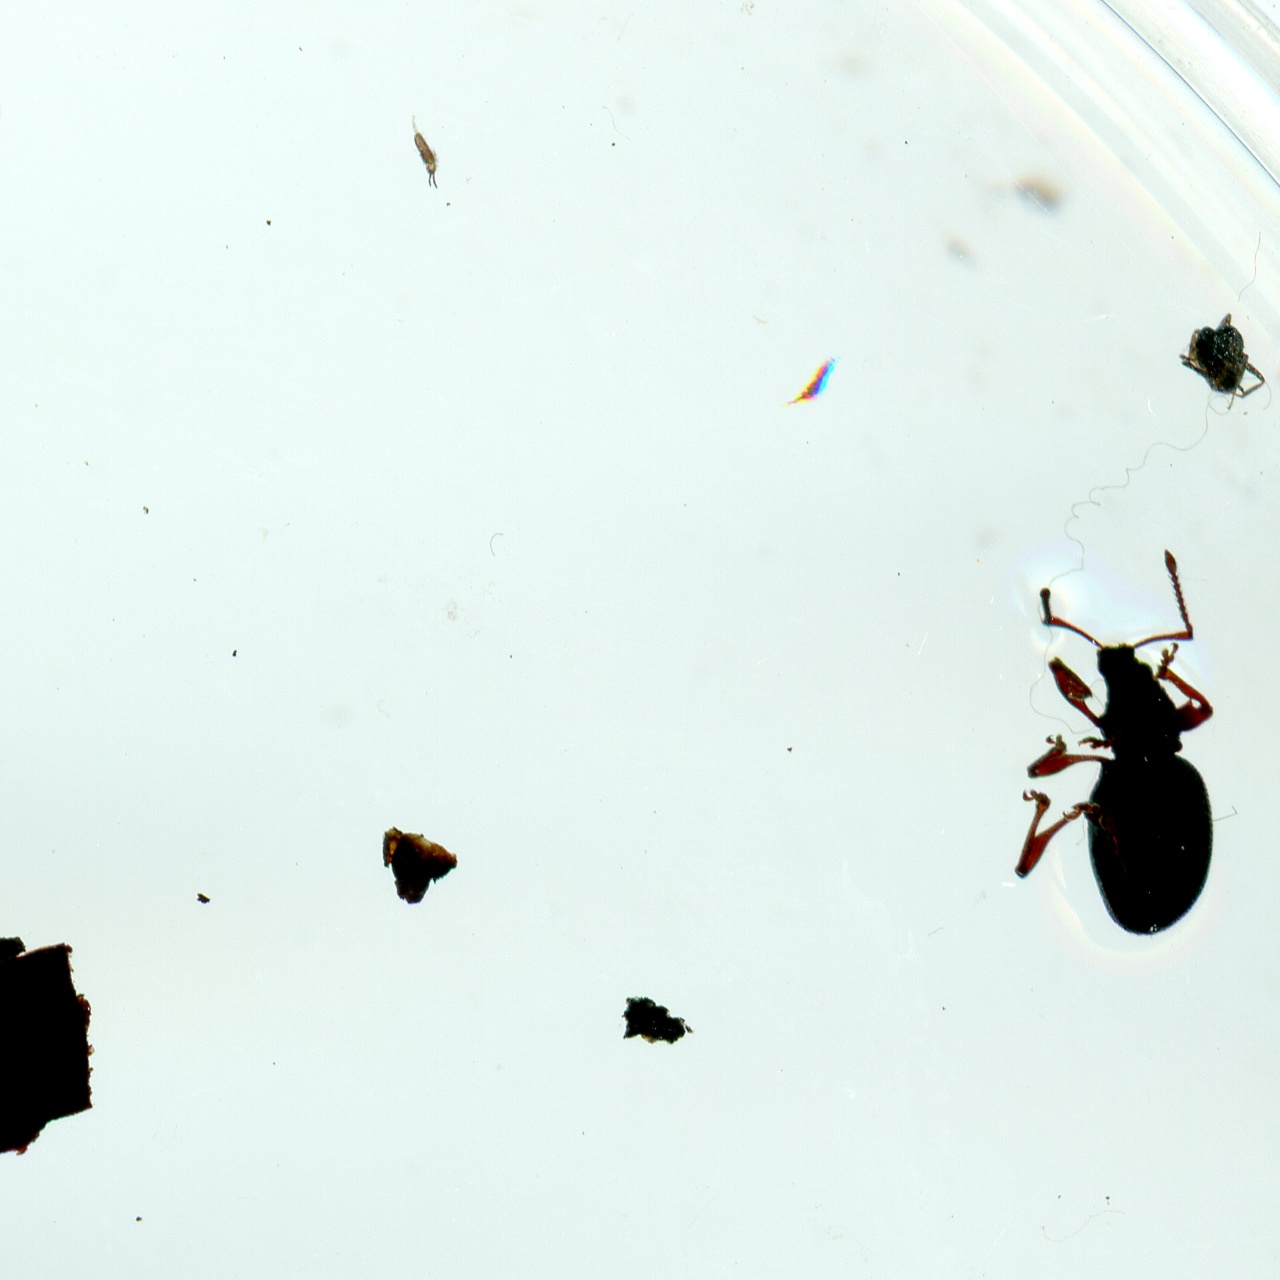arthropod: (1009, 545, 1218, 943), (778, 348, 845, 412), (403, 103, 447, 196)
